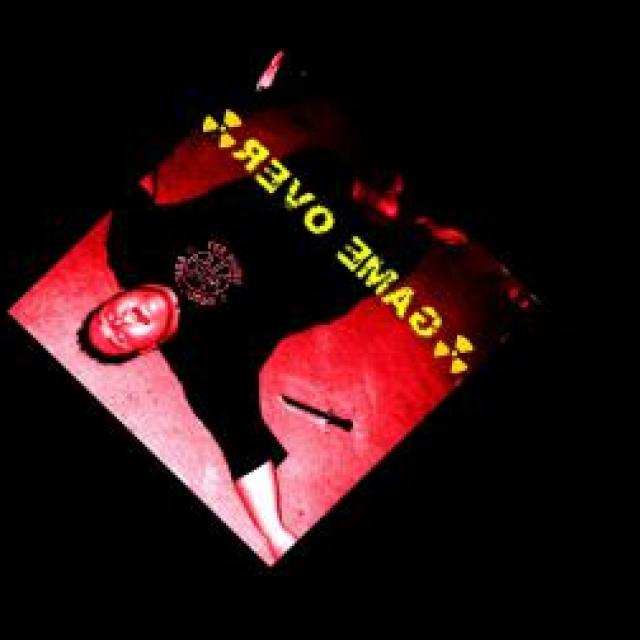knife: (269, 388, 358, 436)
